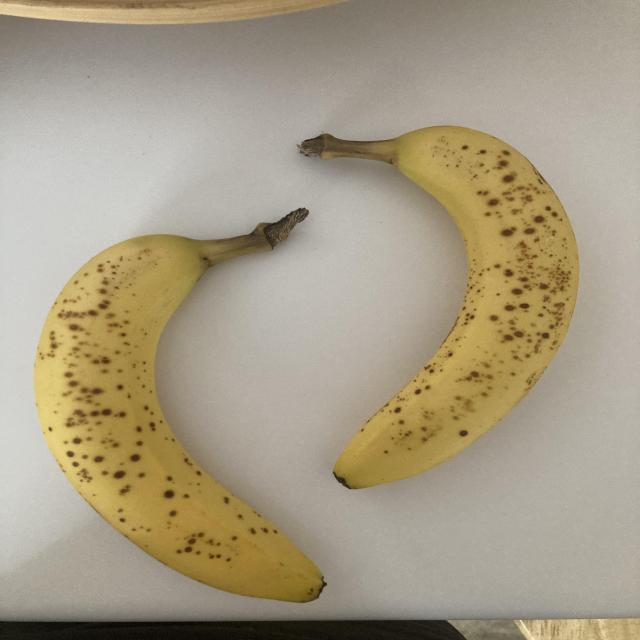Banana: (35, 192, 329, 608), (309, 127, 586, 495)
